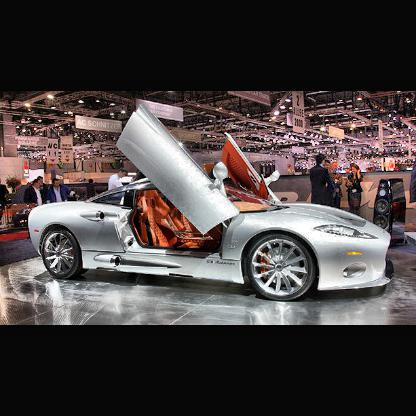Spyker C8 Coupe 2009: (28, 107, 393, 305)
